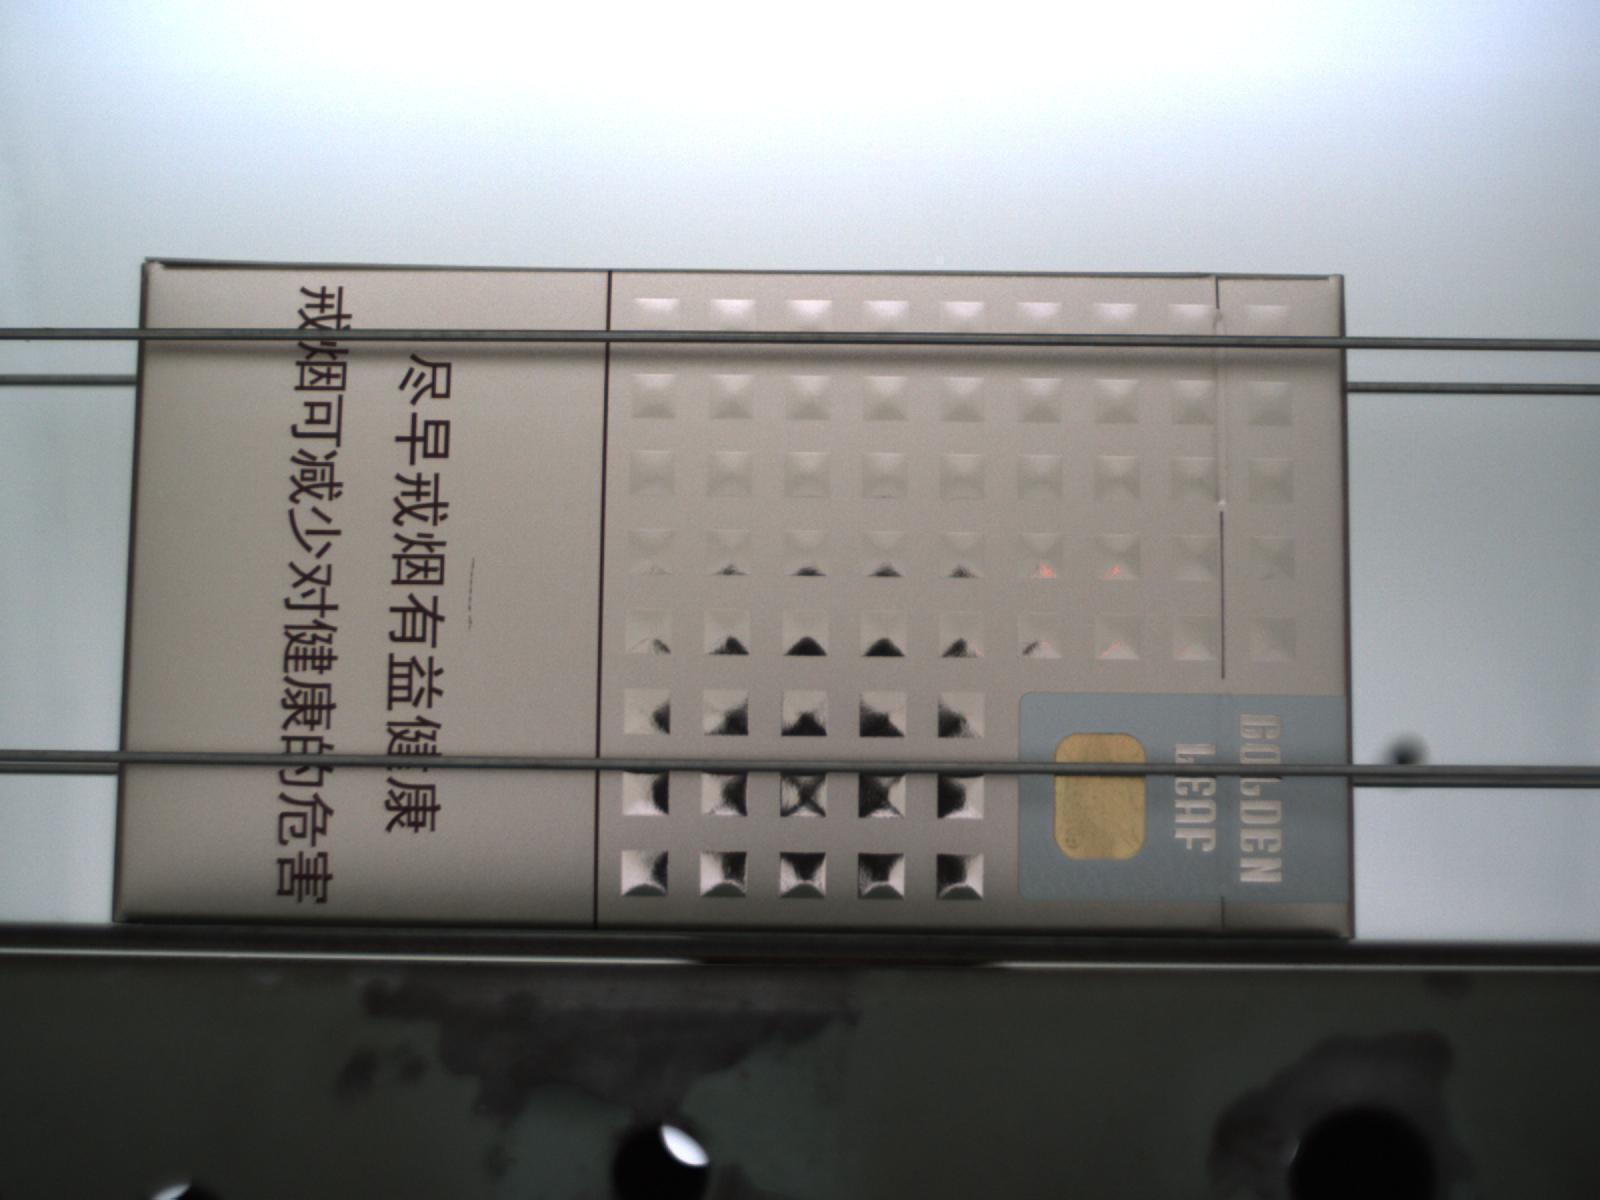dirtyScratch: (466, 555, 477, 632)
